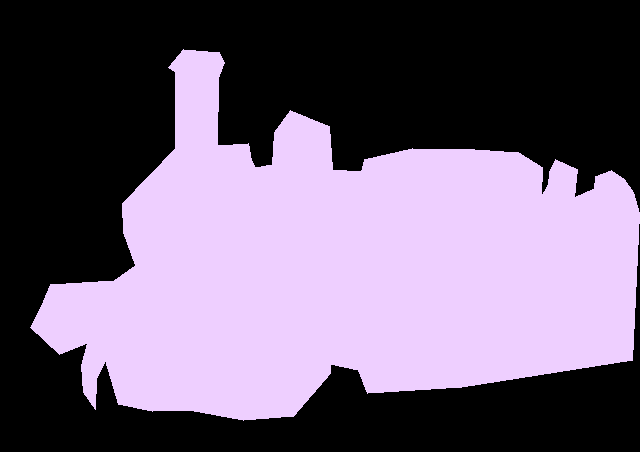Train: (30, 49, 640, 420)
